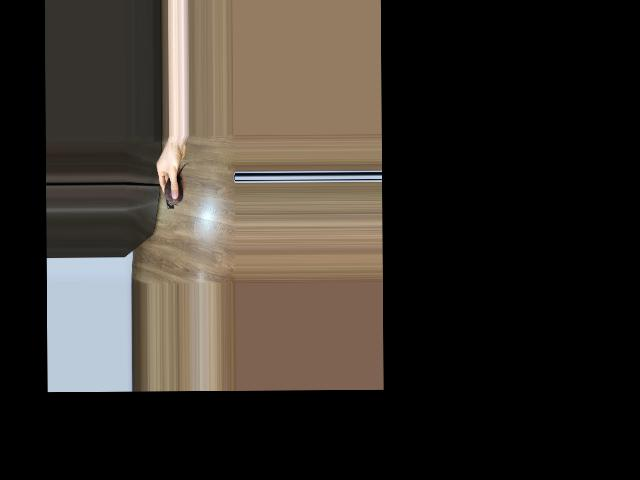beet: (164, 163, 189, 210)
